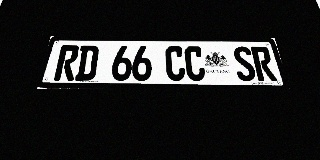6: (111, 46, 133, 81), (132, 46, 152, 81)
C: (184, 46, 206, 81), (165, 46, 186, 81)
D: (74, 45, 99, 81)
R: (53, 45, 80, 81), (250, 47, 277, 81)
S: (232, 47, 258, 81)
